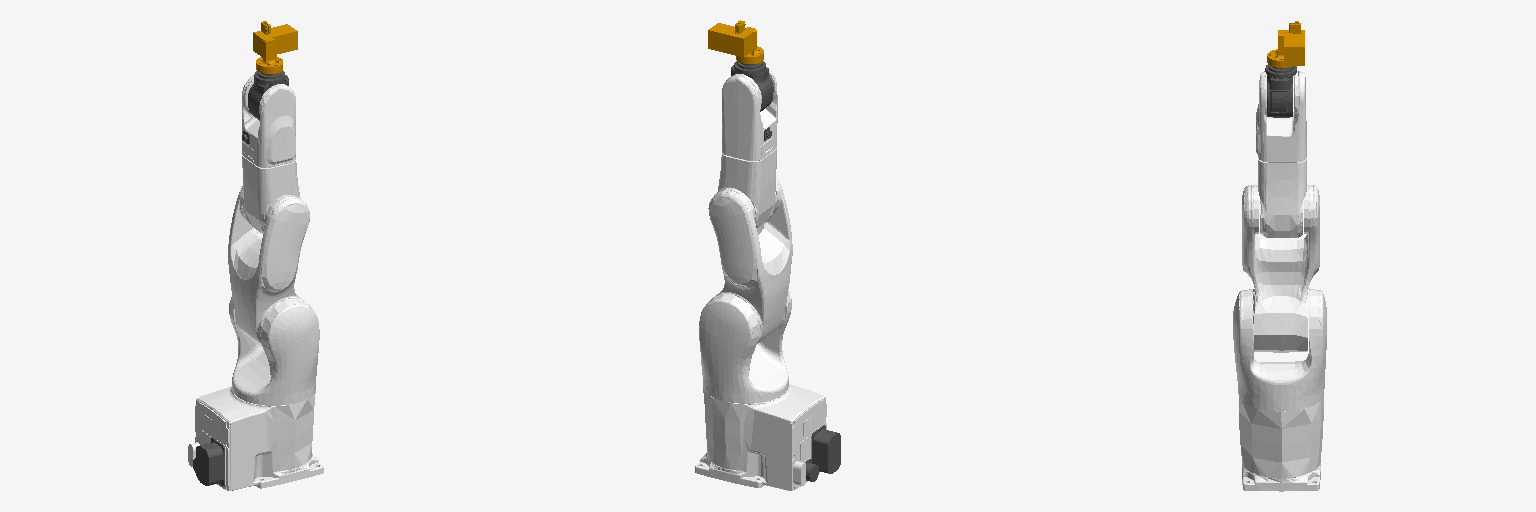
The robot description file, URDF, robot "vs050":
<?xml version="1.0" encoding="utf-8"?>
<!-- =================================================================================== -->
<!-- |    This document was autogenerated by xacro from denso_vs050_with_extruder.xacro | -->
<!-- |    EDITING THIS FILE BY HAND IS NOT RECOMMENDED                                 | -->
<!-- =================================================================================== -->
<robot name="vs050" xmlns:xi="http://www.w3.org/2001/XInclude">
  <gazebo>
    <plugin filename="libgazebo_ros_control.so" name="gazebo_ros_control">
      <robotNamespace>/vs050</robotNamespace>
    </plugin>
  </gazebo>
  <link name="world"/>
  <joint name="joint_w" type="fixed">
    <parent link="world"/>
    <child link="base_link"/>
  </joint>
  <link name="base_link">
    <visual>
      <origin rpy="0 0 0" xyz="0 0 0"/>
      <geometry>
        <mesh filename="package://denso_robot_descriptions/vs050_description/base_link.dae" scale="1 1 1"/>
      </geometry>
    </visual>
    <collision>
      <origin rpy="0 0 0" xyz="0 0 0"/>
      <geometry>
        <mesh filename="package://denso_robot_descriptions/vs050_description/base_link.dae" scale="1 1 1"/>
      </geometry>
    </collision>
    <inertial>
      <mass value="1"/>
      <origin rpy="0.000000 0.000000 0.000000" xyz="0.000000 0.000000 0.000000"/>
      <inertia ixx="1" ixy="0" ixz="0" iyy="1" iyz="0" izz="1"/>
    </inertial>
  </link>
  <link name="J1">
    <visual>
      <origin rpy="0 0 0" xyz="0 0 0"/>
      <geometry>
        <mesh filename="package://denso_robot_descriptions/vs050_description/J1.dae" scale="1 1 1"/>
      </geometry>
    </visual>
    <collision>
      <origin rpy="0 0 0" xyz="0 0 0"/>
      <geometry>
        <mesh filename="package://denso_robot_descriptions/vs050_description/J1.dae" scale="1 1 1"/>
      </geometry>
    </collision>
    <inertial>
      <mass value="1"/>
      <origin rpy="0.000000 0.000000 0.000000" xyz="0.000000 0.000000 0.000000"/>
      <inertia ixx="1" ixy="0" ixz="0" iyy="1" iyz="0" izz="1"/>
    </inertial>
  </link>
  <joint name="joint_1" type="revolute">
    <parent link="base_link"/>
    <child link="J1"/>
    <origin rpy="0.000000 0.000000 0.000000" xyz="0.000000 0.000000 0.181500"/>
    <axis xyz="-0.000000 -0.000000 1.000000"/>
    <limit effort="1" lower="-2.96705972839036" upper="2.96705972839036" velocity="3.73064127613788"/>
    <dynamics damping="0" friction="0"/>
  </joint>
  <transmission name="trans_1">
    <type>transmission_interface/SimpleTransmission</type>
    <joint name="joint_1">
      <hardwareInterface>hardware_interface/PositionJointInterface</hardwareInterface>
    </joint>
    <actuator name="motor_1">
      <hardwareInterface>hardware_interface/PositionJointInterface</hardwareInterface>
      <mechanicalReduction>1</mechanicalReduction>
    </actuator>
  </transmission>
  <link name="J2">
    <visual>
      <origin rpy="0 0 0" xyz="0 0 0"/>
      <geometry>
        <mesh filename="package://denso_robot_descriptions/vs050_description/J2.dae" scale="1 1 1"/>
      </geometry>
    </visual>
    <collision>
      <origin rpy="0 0 0" xyz="0 0 0"/>
      <geometry>
        <mesh filename="package://denso_robot_descriptions/vs050_description/J2.dae" scale="1 1 1"/>
      </geometry>
    </collision>
    <inertial>
      <mass value="1"/>
      <origin rpy="0.000000 0.000000 0.000000" xyz="0.000000 0.000000 0.000000"/>
      <inertia ixx="1" ixy="0" ixz="0" iyy="1" iyz="0" izz="1"/>
    </inertial>
  </link>
  <joint name="joint_2" type="revolute">
    <parent link="J1"/>
    <child link="J2"/>
    <origin rpy="0.000000 0.000000 0.000000" xyz="0.000000 0.000000 0.163500"/>
    <axis xyz="-0.000000 1.000000 -0.000000"/>
    <limit effort="1" lower="-2.0943951023932" upper="2.0943951023932" velocity="2.9845130209103"/>
    <dynamics damping="0" friction="0"/>
  </joint>
  <transmission name="trans_2">
    <type>transmission_interface/SimpleTransmission</type>
    <joint name="joint_2">
      <hardwareInterface>hardware_interface/PositionJointInterface</hardwareInterface>
    </joint>
    <actuator name="motor_2">
      <hardwareInterface>hardware_interface/PositionJointInterface</hardwareInterface>
      <mechanicalReduction>1</mechanicalReduction>
    </actuator>
  </transmission>
  <link name="J3">
    <visual>
      <origin rpy="0 0 0" xyz="0 0 0"/>
      <geometry>
        <mesh filename="package://denso_robot_descriptions/vs050_description/J3.dae" scale="1 1 1"/>
      </geometry>
    </visual>
    <collision>
      <origin rpy="0 0 0" xyz="0 0 0"/>
      <geometry>
        <mesh filename="package://denso_robot_descriptions/vs050_description/J3.dae" scale="1 1 1"/>
      </geometry>
    </collision>
    <inertial>
      <mass value="1"/>
      <origin rpy="0.000000 0.000000 0.000000" xyz="0.000000 0.000000 0.000000"/>
      <inertia ixx="1" ixy="0" ixz="0" iyy="1" iyz="0" izz="1"/>
    </inertial>
  </link>
  <joint name="joint_3" type="revolute">
    <parent link="J2"/>
    <child link="J3"/>
    <origin rpy="0.000000 0.000000 0.000000" xyz="0.000000 0.000000 0.250000"/>
    <axis xyz="-0.000000 1.000000 -0.000000"/>
    <limit effort="1" lower="-2.0943951023932" upper="2.63544717051144" velocity="3.3857642159438"/>
    <dynamics damping="0" friction="0"/>
  </joint>
  <transmission name="trans_3">
    <type>transmission_interface/SimpleTransmission</type>
    <joint name="joint_3">
      <hardwareInterface>hardware_interface/PositionJointInterface</hardwareInterface>
    </joint>
    <actuator name="motor_3">
      <hardwareInterface>hardware_interface/PositionJointInterface</hardwareInterface>
      <mechanicalReduction>1</mechanicalReduction>
    </actuator>
  </transmission>
  <link name="J4">
    <visual>
      <origin rpy="0 0 0" xyz="0 0 0"/>
      <geometry>
        <mesh filename="package://denso_robot_descriptions/vs050_description/J4.dae" scale="1 1 1"/>
      </geometry>
    </visual>
    <collision>
      <origin rpy="0 0 0" xyz="0 0 0"/>
      <geometry>
        <mesh filename="package://denso_robot_descriptions/vs050_description/J4.dae" scale="1 1 1"/>
      </geometry>
    </collision>
    <inertial>
      <mass value="1"/>
      <origin rpy="0.000000 0.000000 0.000000" xyz="0.000000 0.000000 0.000000"/>
      <inertia ixx="1" ixy="0" ixz="0" iyy="1" iyz="0" izz="1"/>
    </inertial>
  </link>
  <joint name="joint_4" type="revolute">
    <parent link="J3"/>
    <child link="J4"/>
    <origin rpy="0.000000 0.000000 0.000000" xyz="-0.010000 0.000000 0.119500"/>
    <axis xyz="-0.000000 -0.000000 1.000000"/>
    <limit effort="1" lower="-4.71238898038469" upper="4.71238898038469" velocity="3.73064127613788"/>
    <dynamics damping="0" friction="0"/>
  </joint>
  <transmission name="trans_4">
    <type>transmission_interface/SimpleTransmission</type>
    <joint name="joint_4">
      <hardwareInterface>hardware_interface/PositionJointInterface</hardwareInterface>
    </joint>
    <actuator name="motor_4">
      <hardwareInterface>hardware_interface/PositionJointInterface</hardwareInterface>
      <mechanicalReduction>1</mechanicalReduction>
    </actuator>
  </transmission>
  <link name="J5">
    <visual>
      <origin rpy="0 0 0" xyz="0 0 0"/>
      <geometry>
        <mesh filename="package://denso_robot_descriptions/vs050_description/J5.dae" scale="1 1 1"/>
      </geometry>
    </visual>
    <collision>
      <origin rpy="0 0 0" xyz="0 0 0"/>
      <geometry>
        <mesh filename="package://denso_robot_descriptions/vs050_description/J5.dae" scale="1 1 1"/>
      </geometry>
    </collision>
    <inertial>
      <mass value="1"/>
      <origin rpy="0.000000 0.000000 0.000000" xyz="0.000000 0.000000 0.000000"/>
      <inertia ixx="1" ixy="0" ixz="0" iyy="1" iyz="0" izz="1"/>
    </inertial>
  </link>
  <joint name="joint_5" type="revolute">
    <parent link="J4"/>
    <child link="J5"/>
    <origin rpy="0.000000 0.000000 0.000000" xyz="0.000000 0.000000 0.135500"/>
    <axis xyz="-0.000000 1.000000 -0.000000"/>
    <limit effort="1" lower="-2.0943951023932" upper="2.0943951023932" velocity="2.87060410727889"/>
    <dynamics damping="0" friction="0"/>
  </joint>
  <transmission name="trans_5">
    <type>transmission_interface/SimpleTransmission</type>
    <joint name="joint_5">
      <hardwareInterface>hardware_interface/PositionJointInterface</hardwareInterface>
    </joint>
    <actuator name="motor_5">
      <hardwareInterface>hardware_interface/PositionJointInterface</hardwareInterface>
      <mechanicalReduction>1</mechanicalReduction>
    </actuator>
  </transmission>
  <link name="J6">
    <visual>
      <origin rpy="0 0 0" xyz="0 0 0"/>
      <geometry>
        <mesh filename="package://denso_robot_descriptions/vs050_description/J6.dae" scale="1 1 1"/>
      </geometry>
    </visual>
    <collision>
      <origin rpy="0 0 0" xyz="0 0 0"/>
      <geometry>
        <mesh filename="package://denso_robot_descriptions/vs050_description/J6.dae" scale="1 1 1"/>
      </geometry>
    </collision>
    <inertial>
      <mass value="1"/>
      <origin rpy="0.000000 0.000000 0.000000" xyz="0.000000 0.000000 0.000000"/>
      <inertia ixx="1" ixy="0" ixz="0" iyy="1" iyz="0" izz="1"/>
    </inertial>
  </link>
  <joint name="joint_6" type="revolute">
    <parent link="J5"/>
    <child link="J6"/>
    <origin rpy="0.000000 0.000000 0.000000" xyz="0.000000 0.000000 0.070000"/>
    <axis xyz="-0.000000 -0.000000 1.000000"/>
    <limit effort="1" lower="-6.28318530717959" upper="6.28318530717959" velocity="5.96902604182061"/>
    <dynamics damping="0" friction="0"/>
  </joint>
  <transmission name="trans_6">
    <type>transmission_interface/SimpleTransmission</type>
    <joint name="joint_6">
      <hardwareInterface>hardware_interface/PositionJointInterface</hardwareInterface>
    </joint>
    <actuator name="motor_6">
      <hardwareInterface>hardware_interface/PositionJointInterface</hardwareInterface>
      <mechanicalReduction>1</mechanicalReduction>
    </actuator>
  </transmission>
  <!-- add any joints/links required to connect the two -->
  <!-- Create a fixed joint with a parameterized name. -->
  <joint name="extruder_joint" type="fixed">
    <!-- The parent link must be read from the robot model it is attached to. -->
    <parent link="J6"/>
    <child link="extruder"/>
    <!-- The tool is directly attached to the flange. -->
    <origin rpy="0 0 0" xyz="0 0 0"/>
  </joint>
  <link name="extruder">
    <visual>
      <geometry>
        <!-- The path to the visual meshes in the package. -->
        <mesh filename="package://denso_arm_with_extruder/meshes/visual/extruder.stl"/>
      </geometry>
    </visual>
    <collision>
      <geometry>
        <!-- The path to the collision meshes in the package. -->
        <mesh filename="package://denso_arm_with_extruder/meshes/visual/extruder.stl"/>
      </geometry>
    </collision>
  </link>
  <!-- TCP frame -->
  <joint name="tcp_joint" type="revolute">
    <origin rpy="0 0 0" xyz="0 0 0"/>
    <parent link="extruder"/>
    <child link="tcp"/>
    <limit effort="1" lower="-6.28318530717959" upper="6.28318530717959" velocity="5.96902604182061"/>
  </joint>
  <link name="tcp"/>
</robot>

--- What the picture shows (computed from the rendered views, not written in the file) ---
Views: 3 orthographic renders of the robot side by side, from view 1: azimuth 30°, elevation 25°; view 2: azimuth 150°, elevation 25°; view 3: azimuth 270°, elevation 25°.
Model vs050 with 10 links and 9 joints (7 revolute, 2 fixed), rooted at world, posed all joints at 0.
Visible links, largest first — view 1: base_link, J2, J1, J4, J3, extruder, J5; view 2: base_link, J2, J1, J4, J3, extruder, J5; view 3: J2, base_link, J1, J3, J4, J5, extruder.
Boxes of the visible links, x1=… form: base_link: x1=188, y1=386, x2=323, y2=490; J2: x1=228, y1=186, x2=309, y2=346; J1: x1=229, y1=297, x2=319, y2=405; J4: x1=242, y1=75, x2=295, y2=167; J3: x1=242, y1=155, x2=300, y2=233; extruder: x1=253, y1=21, x2=297, y2=73; J5: x1=248, y1=71, x2=288, y2=120; base_link: x1=695, y1=384, x2=840, y2=490; J2: x1=708, y1=177, x2=792, y2=343; J1: x1=699, y1=290, x2=791, y2=403; J4: x1=722, y1=67, x2=777, y2=160; J3: x1=718, y1=148, x2=777, y2=227; extruder: x1=708, y1=20, x2=763, y2=63; J5: x1=731, y1=61, x2=773, y2=111; J2: x1=1242, y1=185, x2=1319, y2=352; base_link: x1=1239, y1=396, x2=1323, y2=491; J1: x1=1233, y1=289, x2=1326, y2=411; J3: x1=1258, y1=158, x2=1306, y2=237; J4: x1=1256, y1=71, x2=1306, y2=162; J5: x1=1265, y1=65, x2=1296, y2=117; extruder: x1=1267, y1=21, x2=1304, y2=67.
Bounding box of the posed robot: 0.278 × 0.1924 × 1.02 m (x, y, z).
8 mesh visuals loaded from 8 distinct referenced files (1 binary STL, 7 Collada DAE).